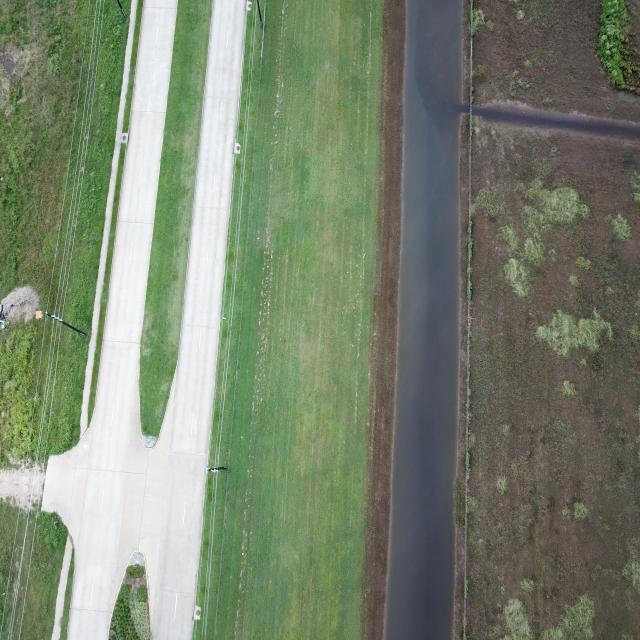fire: (385, 0, 463, 640), (472, 105, 640, 138)
